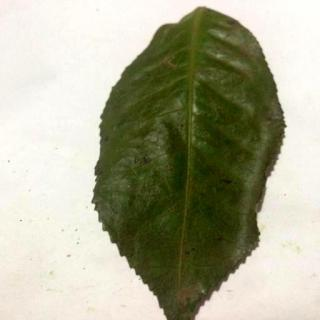Red Leaf Spot: (95, 8, 286, 320)
